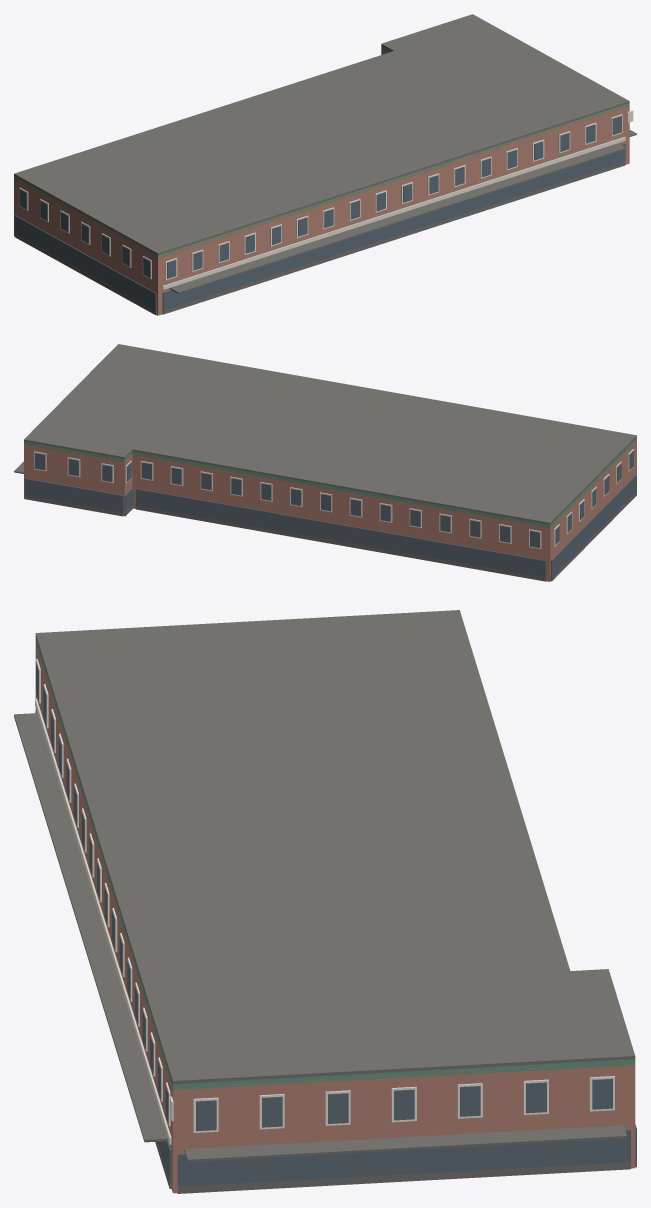
Rendered from s48_gis_248145_820625_detail.glb.
3 views of the same model, one above another, from view 1: azimuth 30°, elevation 25°; view 2: azimuth 150°, elevation 25°; view 3: azimuth 270°, elevation 25° (orthographic). The views are drawn at different scales.
Parts seen in each view (by area): view 1: roofcap, mass, band_0_1.55, awning_0, band_1_1.55, cornice, band_0_3.55, band_0_0.25, band_1_0.25; view 2: roofcap, mass, band_2_1.55, cornice, band_4_1.55, band_2_0.25, band_1_1.55, band_4_0.25, band_1_0.25; view 3: roofcap, mass, band_5_1.55, awning_0, awning_5, cornice, band_5_0.25, band_0_3.55.
Part boxes in pixels (box(x1,y1,x2,y2)): roofcap: box(14, 14, 629, 254); mass: box(14, 46, 629, 315); band_0_1.55: box(162, 143, 625, 312); awning_0: box(169, 143, 626, 293); band_1_1.55: box(14, 215, 156, 313); cornice: box(14, 45, 629, 258); band_0_3.55: box(162, 137, 625, 289); band_0_0.25: box(162, 161, 625, 314); band_1_0.25: box(14, 233, 156, 315); roofcap: box(24, 344, 636, 524); mass: box(24, 438, 636, 581); band_2_1.55: box(136, 488, 545, 577); cornice: box(24, 437, 636, 527); band_4_1.55: box(24, 478, 123, 514); band_2_0.25: box(136, 506, 545, 581); band_1_1.55: box(551, 474, 636, 578); band_4_0.25: box(24, 495, 123, 516); band_1_0.25: box(551, 492, 636, 581); roofcap: box(35, 610, 635, 1084); mass: box(35, 641, 635, 1193); band_5_1.55: box(177, 1129, 630, 1186); awning_0: box(14, 713, 168, 1142); awning_5: box(184, 1125, 626, 1162); cornice: box(35, 637, 635, 1090); band_5_0.25: box(177, 1162, 630, 1193); band_0_3.55: box(35, 698, 171, 1144).
Size of the model in its own units: 76.78 by 8.35 by 41.97.
